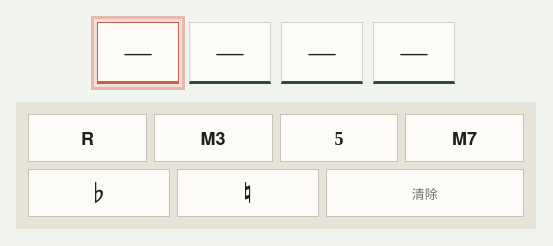
it: ChordMemberKeyboard › fills independent slots and flattens the active chord member
This screenshot has width=553, height=246.
Click the button "R" at (87, 138), box [28,114,147,162]
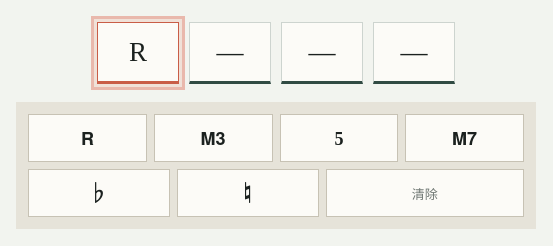
Click the button named "第 2 个成员" at (230, 53), box [189,22,271,84]
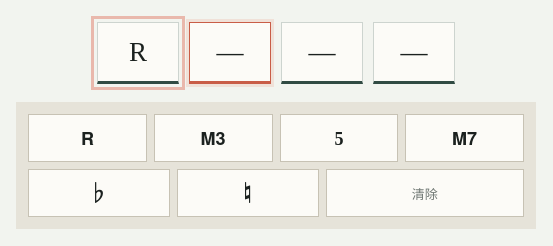
Click the button "M7" at (465, 138), box [405,114,524,162]
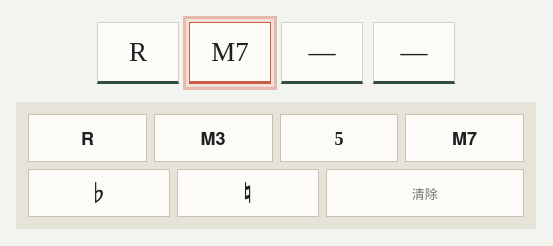
Click the button named "降号" at (99, 193), box [28,169,170,217]
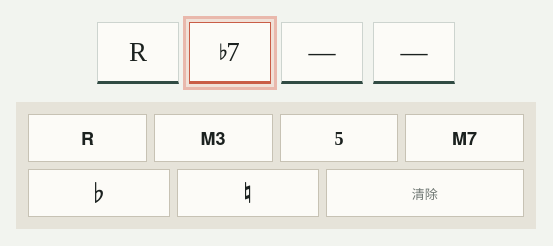
Expected: the button named "第 1 个成员：R" reads "R", [97,22,179,84]
Expected: the button named "第 2 个成员：♭7" is shown, [189,22,271,84]
